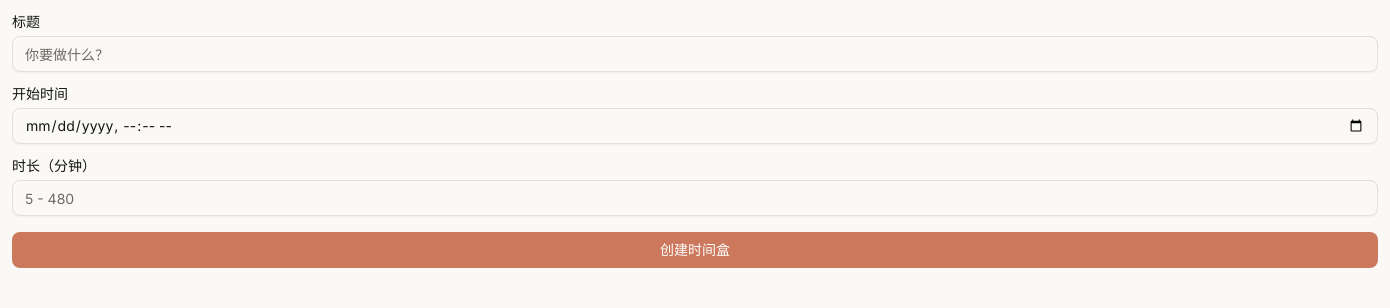
Scenario: IntentForm › 空标题时显示验证错误
This screenshot has width=1390, height=308.
//  只填写部分字段
Type "2026-05-03T10:00" into the field labelled "开始时间" at (695, 126), box [12,108,1378,144]
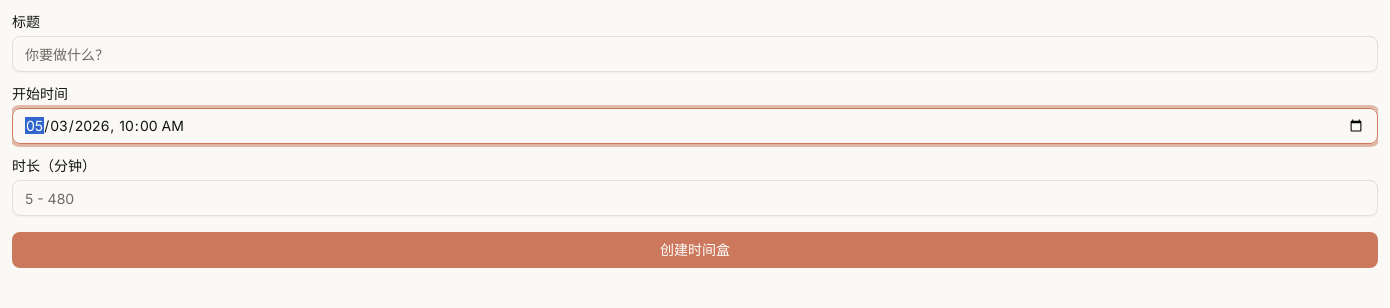
Type "60" into the number field labelled "时长（分钟）" at (695, 198), box [12,180,1378,216]
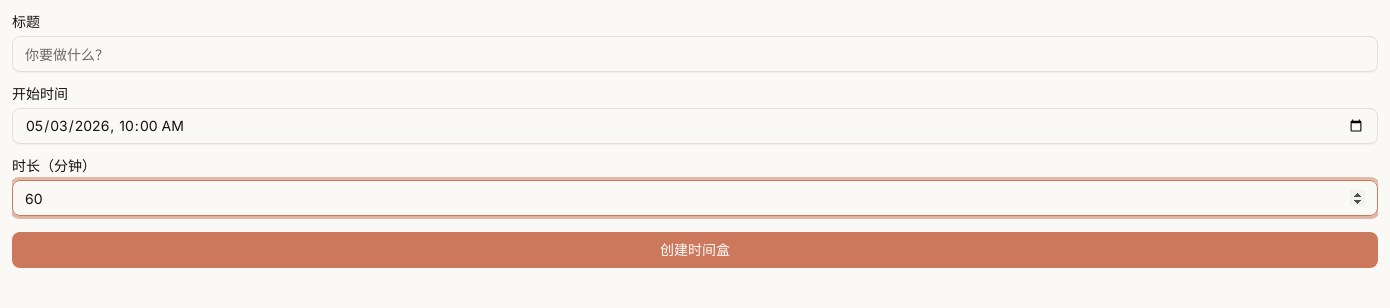
Click the button "创建时间盒" at (695, 250), box [12,232,1378,268]
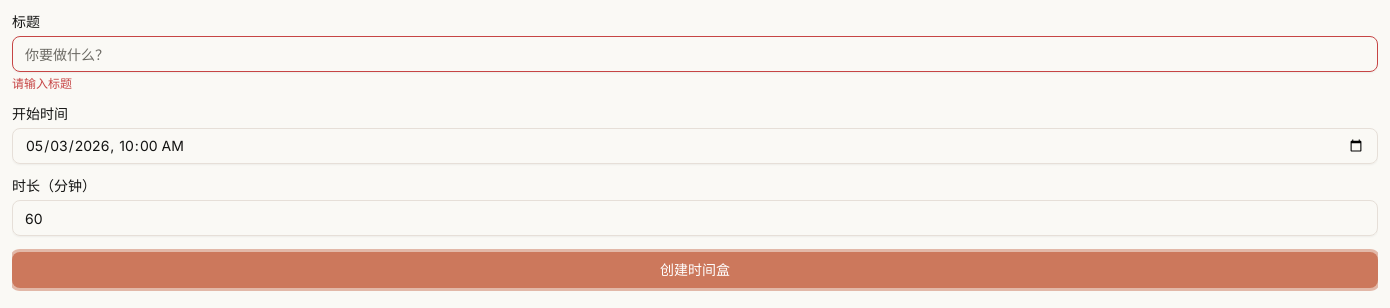
Check: the text "请输入标题" is shown, box [12,76,72,91]
